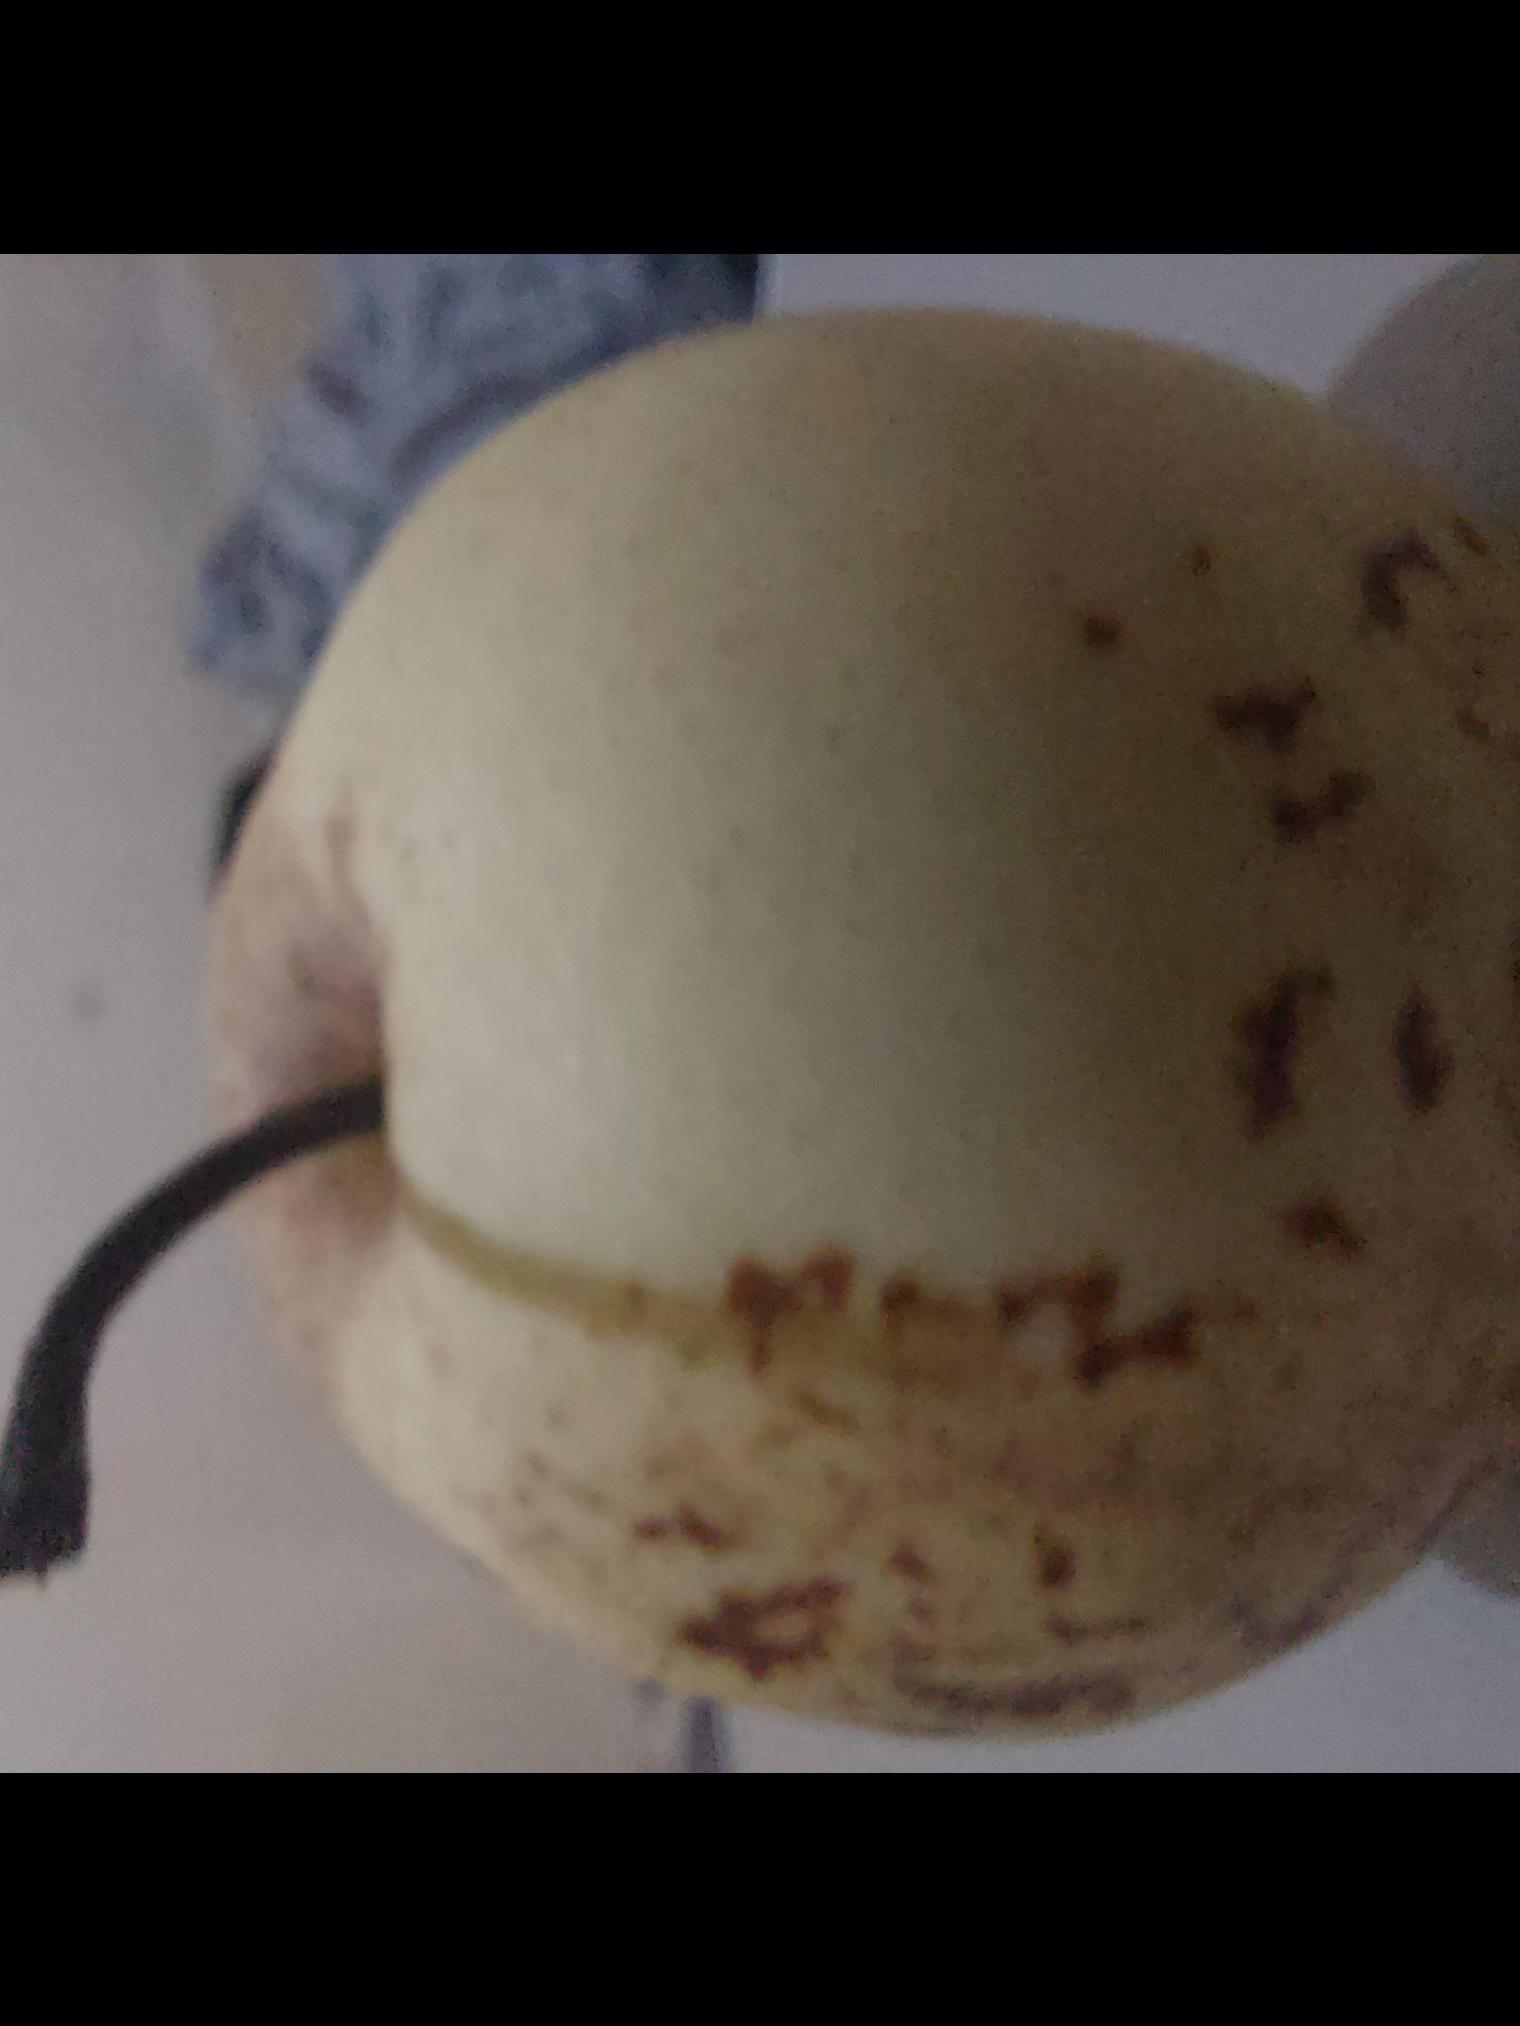Bad Pear: (156, 310, 1520, 1774)
